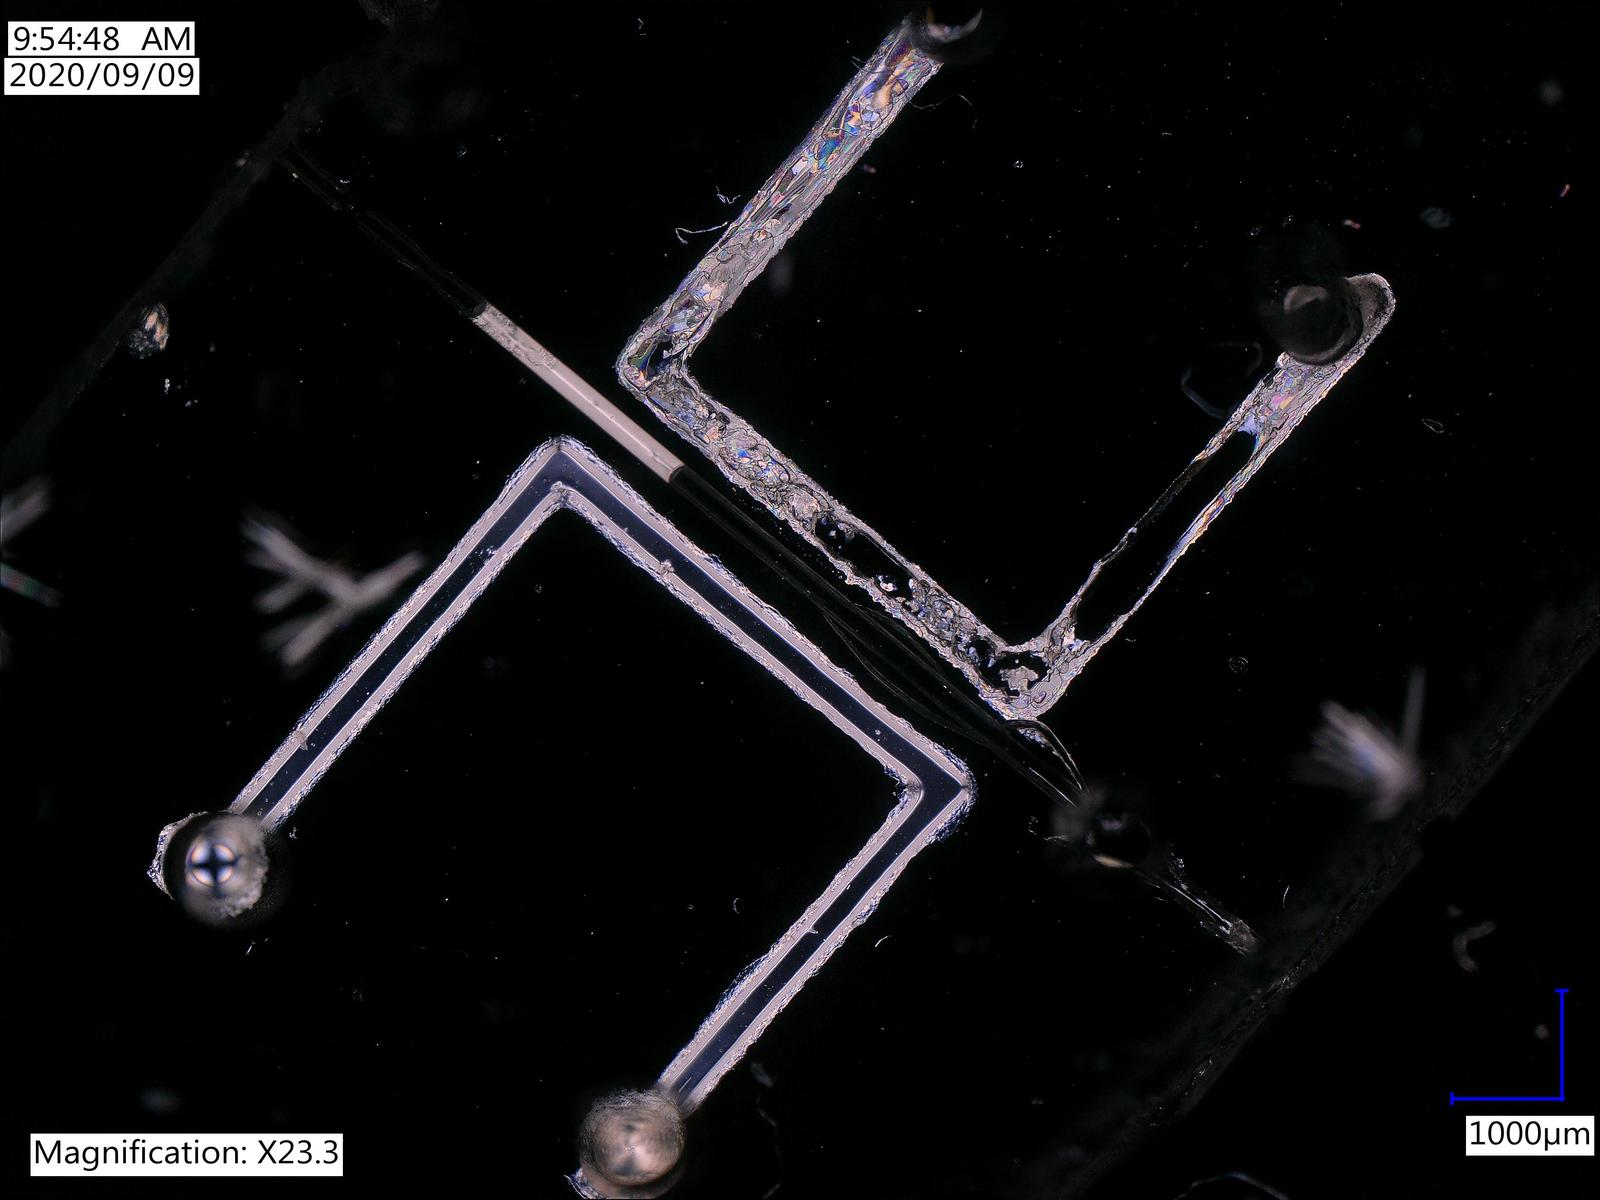sediment: (905, 584, 976, 637), (648, 373, 703, 420), (1041, 628, 1078, 667), (758, 478, 813, 502), (995, 667, 1038, 689)
